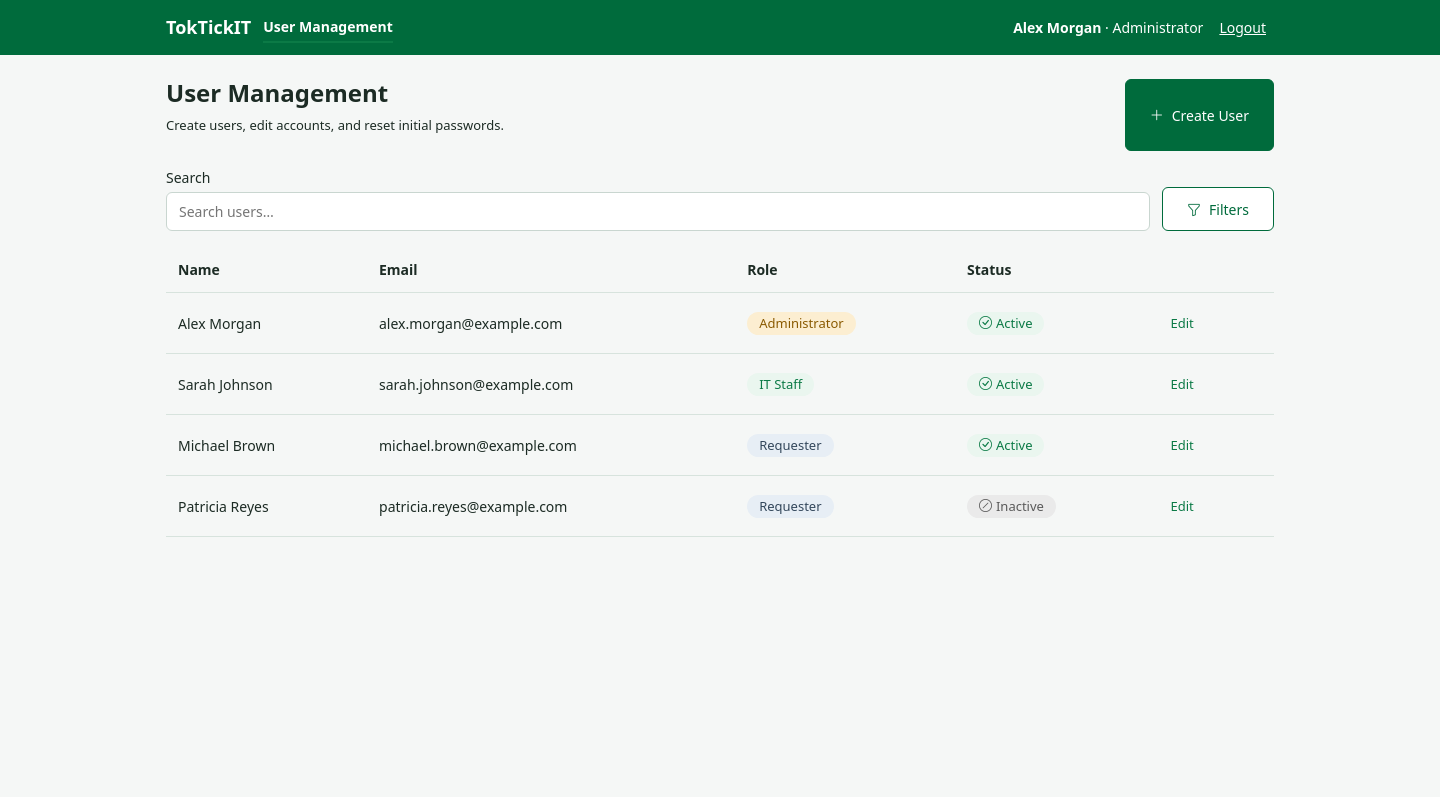
Test case: create user (AC-29, BR-10, BR-15, BR-33) › validates the form before sending anything
Click the button "Create User".
click(1199, 115)  # box [1125,79,1274,151]
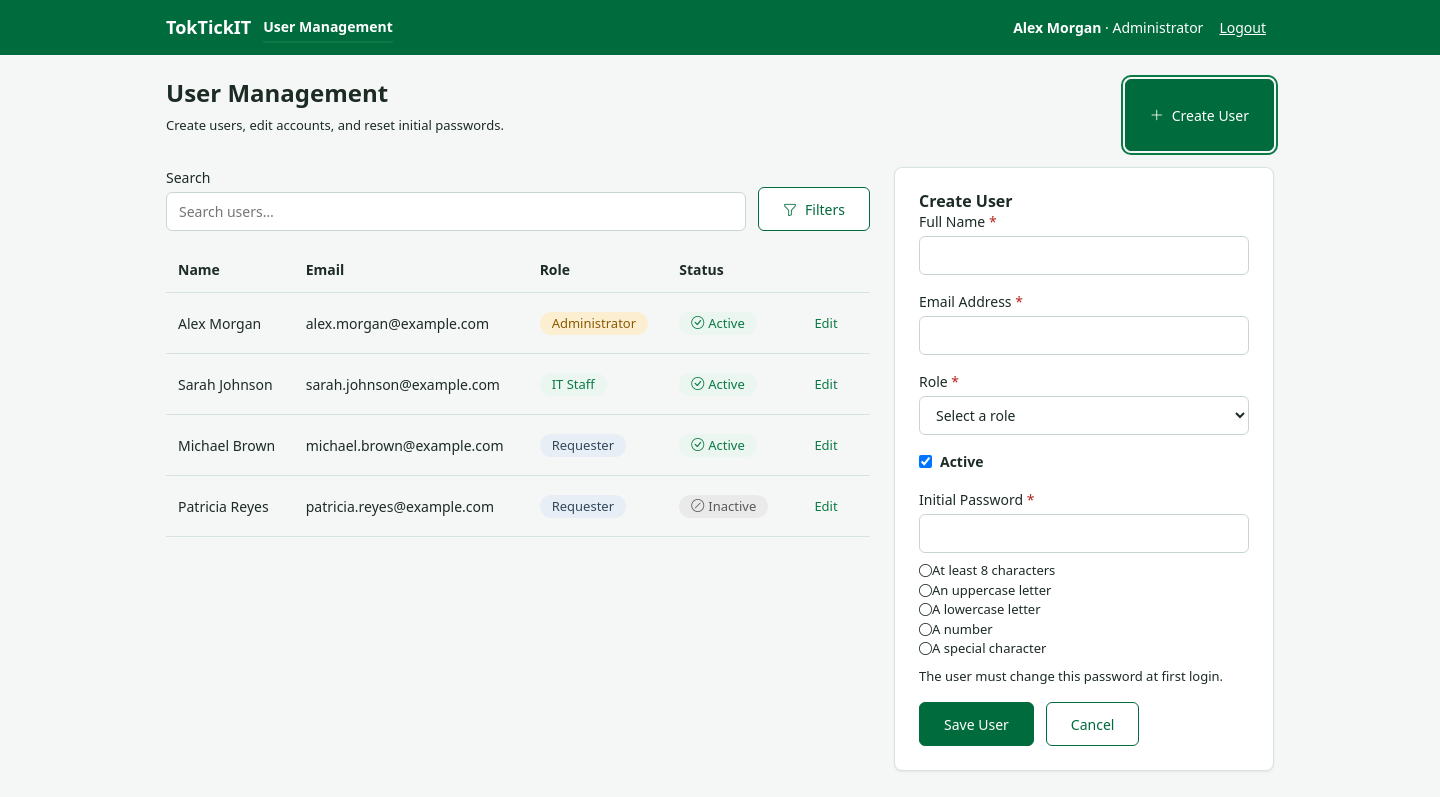
Type "nope" into the field labelled "Email Address *".
click(1084, 336); type("nope")  # box [919,316,1249,356]
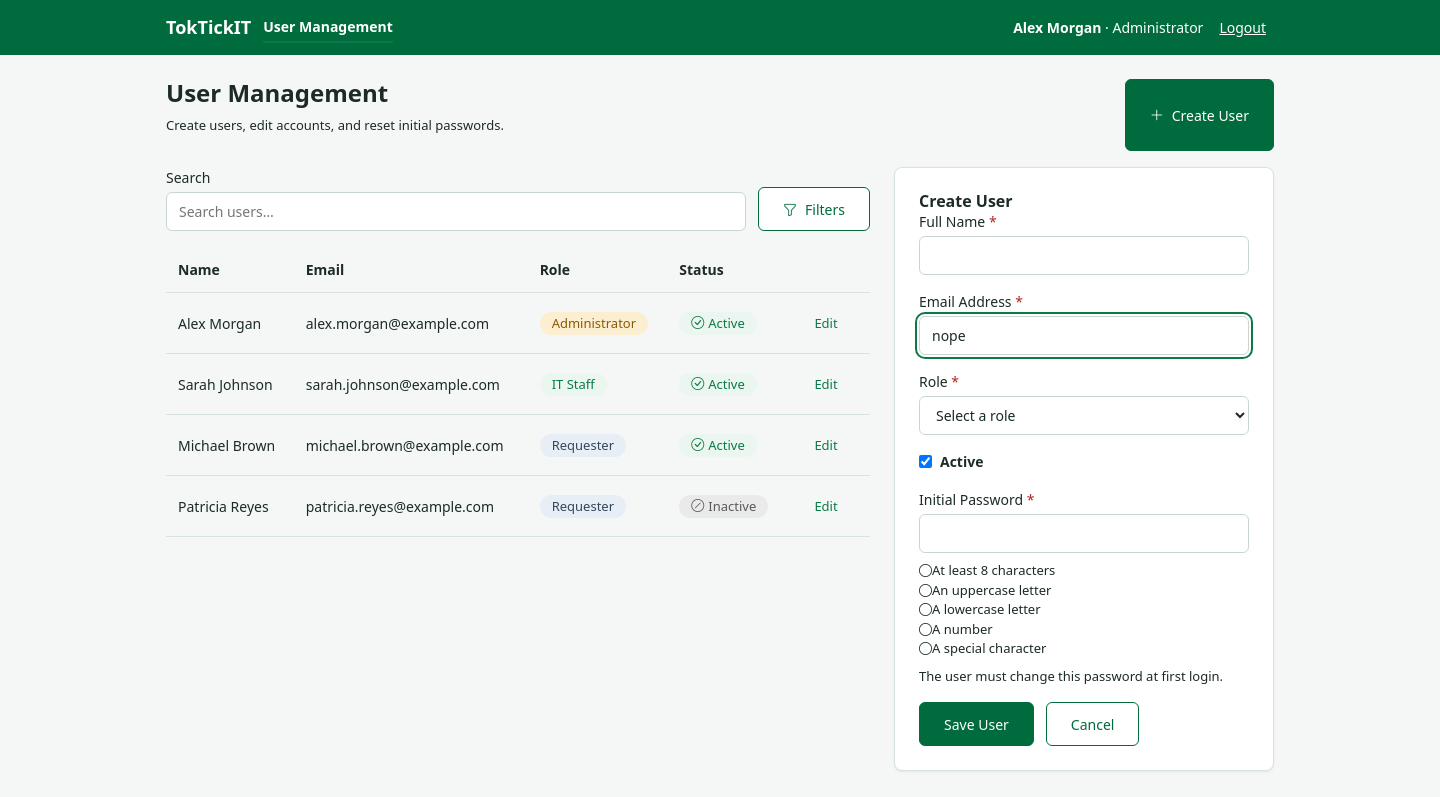
Type "NoSpecial123" into the password field labelled "Initial Password *".
click(1084, 534); type("NoSpecial123")  # box [919,514,1249,554]
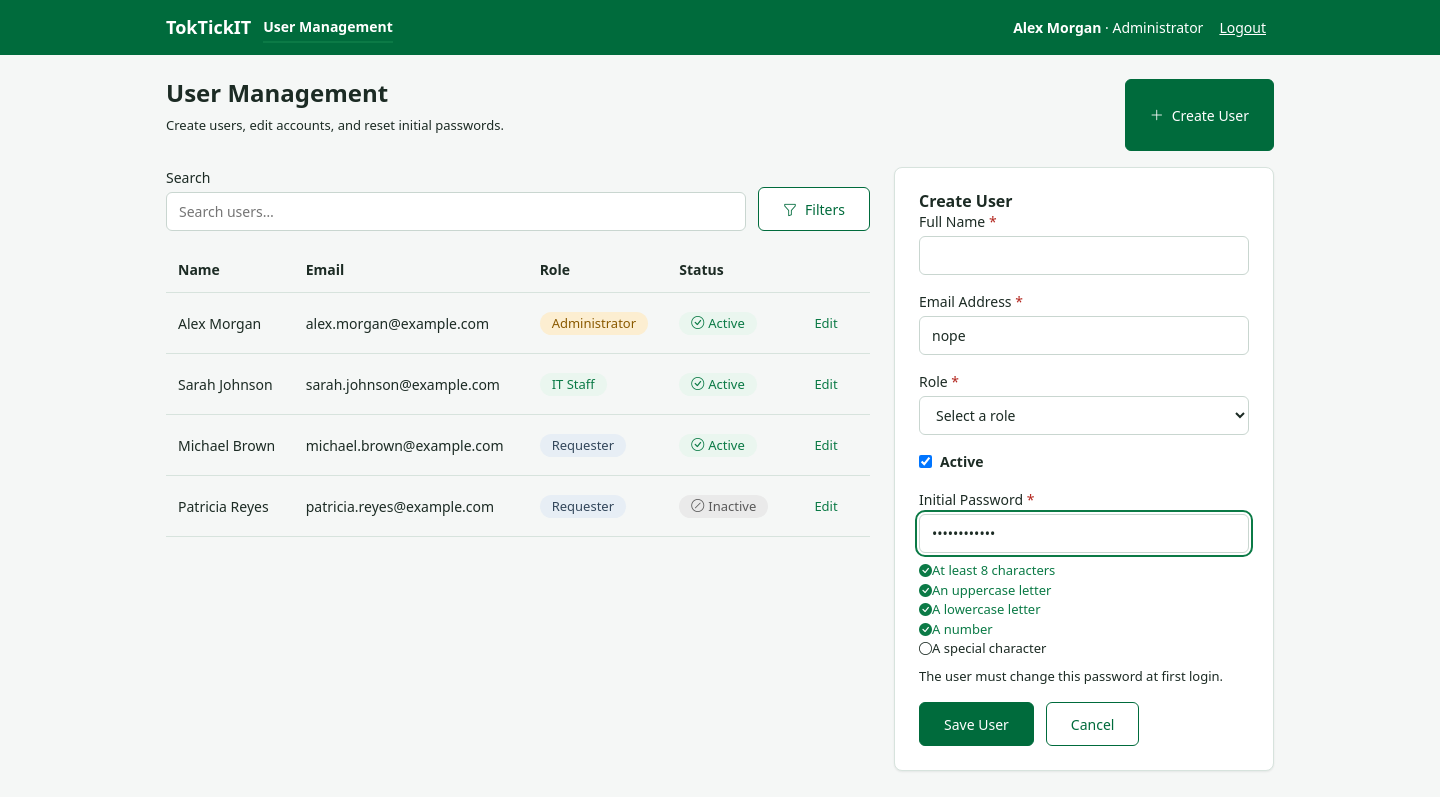
Click the button "Save User".
click(976, 724)  # box [919,702,1034,746]
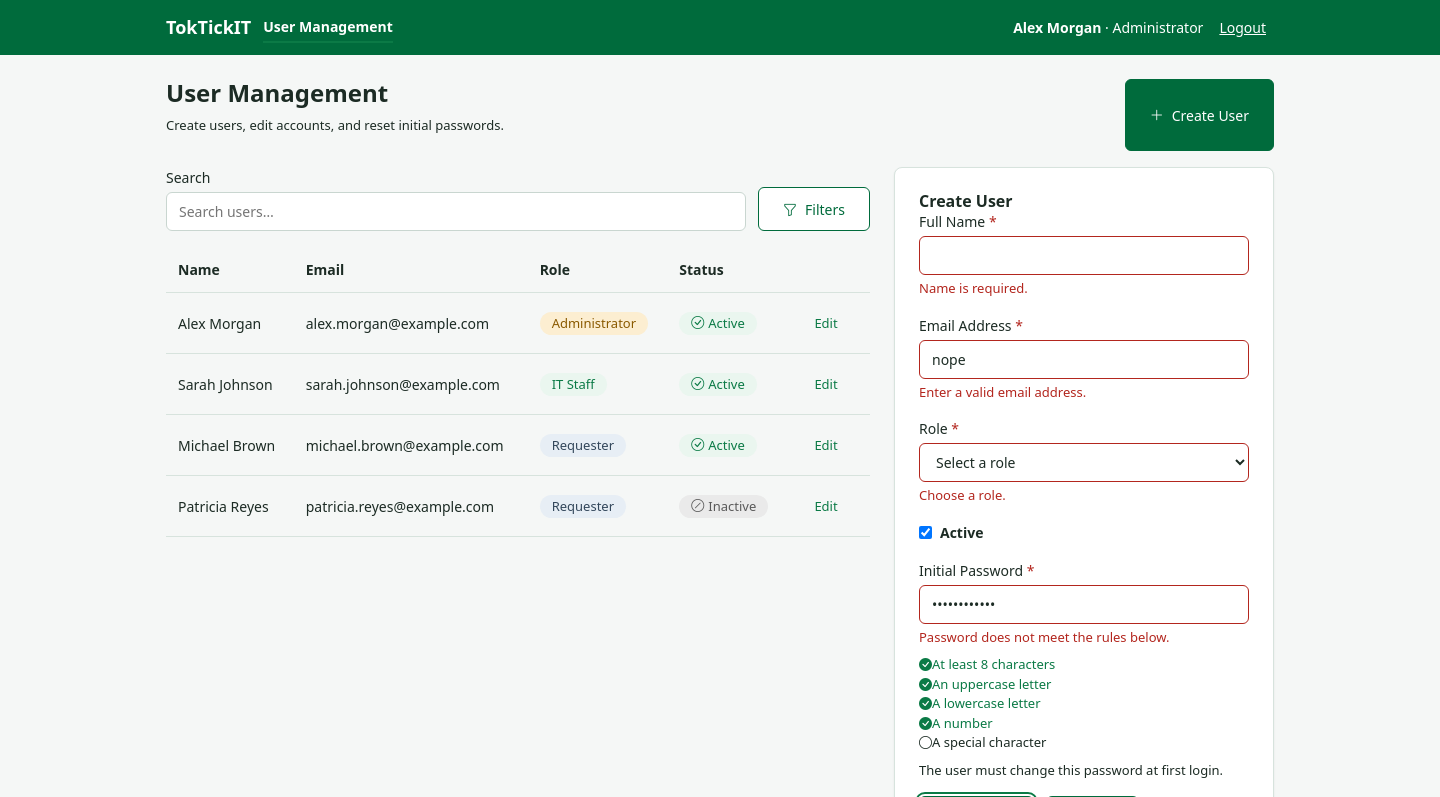
Check: the text "Name is required." is shown, box [919,280,1028,298]
Check: the text "Enter a valid email address." is shown, box [919,383,1086,401]
Check: the text "Choose a role." is shown, box [919,486,1006,504]
